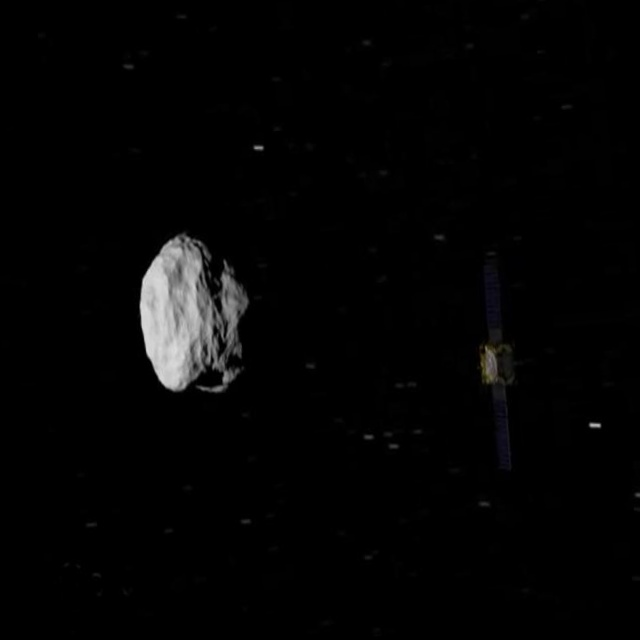large_debris: (120, 196, 267, 441)
satellite: (458, 182, 539, 597)
